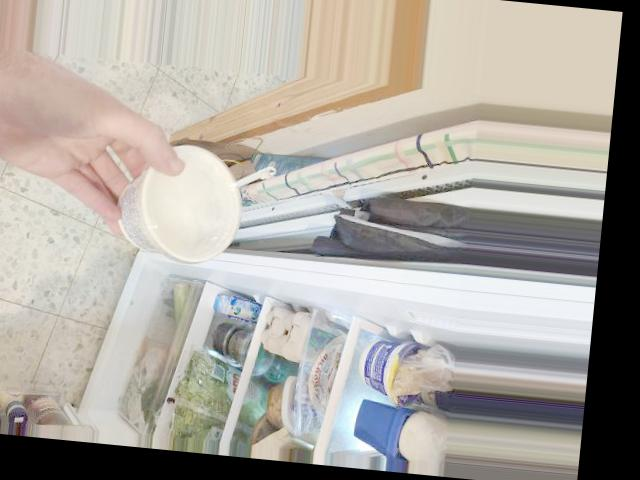cotage: (129, 155, 258, 266)
